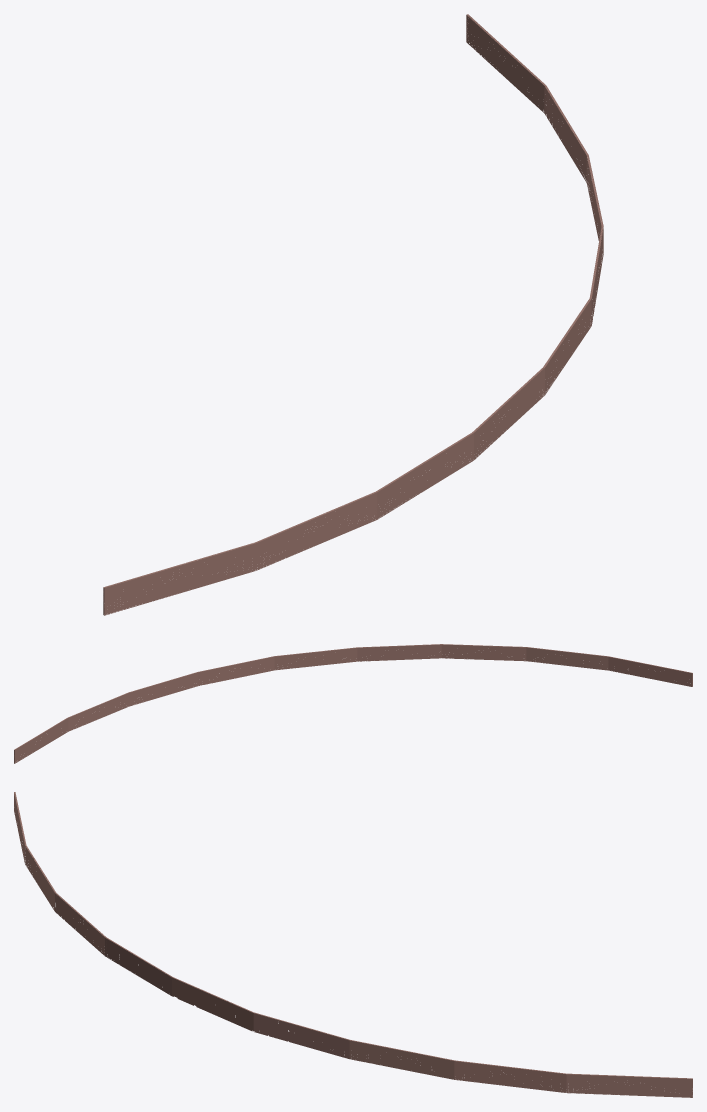
Rendered from SW_ENV_EL_Railing_90dBend_Outer_B_Collision.fbx.
3 views of the same model, one above another, from view 1: azimuth 30°, elevation 25°; view 2: azimuth 150°, elevation 25°; view 3: azimuth 270°, elevation 25° (orthographic). The views are drawn at different scales.
Parts seen in each view (by area): view 1: SW_ENV_EL_Railing_90dBend_Outer_B_Collision; view 2: SW_ENV_EL_Railing_90dBend_Outer_B_Collision; view 3: SW_ENV_EL_Railing_90dBend_Outer_B_Collision.
Boxes of the visible parts, x1=… form: SW_ENV_EL_Railing_90dBend_Outer_B_Collision: x1=103, y1=14, x2=603, y2=615; SW_ENV_EL_Railing_90dBend_Outer_B_Collision: x1=14, y1=644, x2=692, y2=763; SW_ENV_EL_Railing_90dBend_Outer_B_Collision: x1=14, y1=792, x2=692, y2=1097.
Size of the model in its own units: 3241 by 99.54 by 3241.
